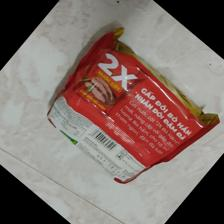3mien: (44, 27, 224, 185)
